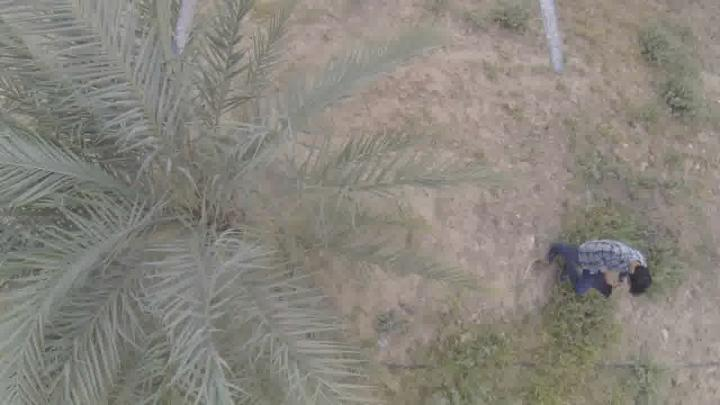Date-Palm-Crown: (0, 36, 324, 384)
